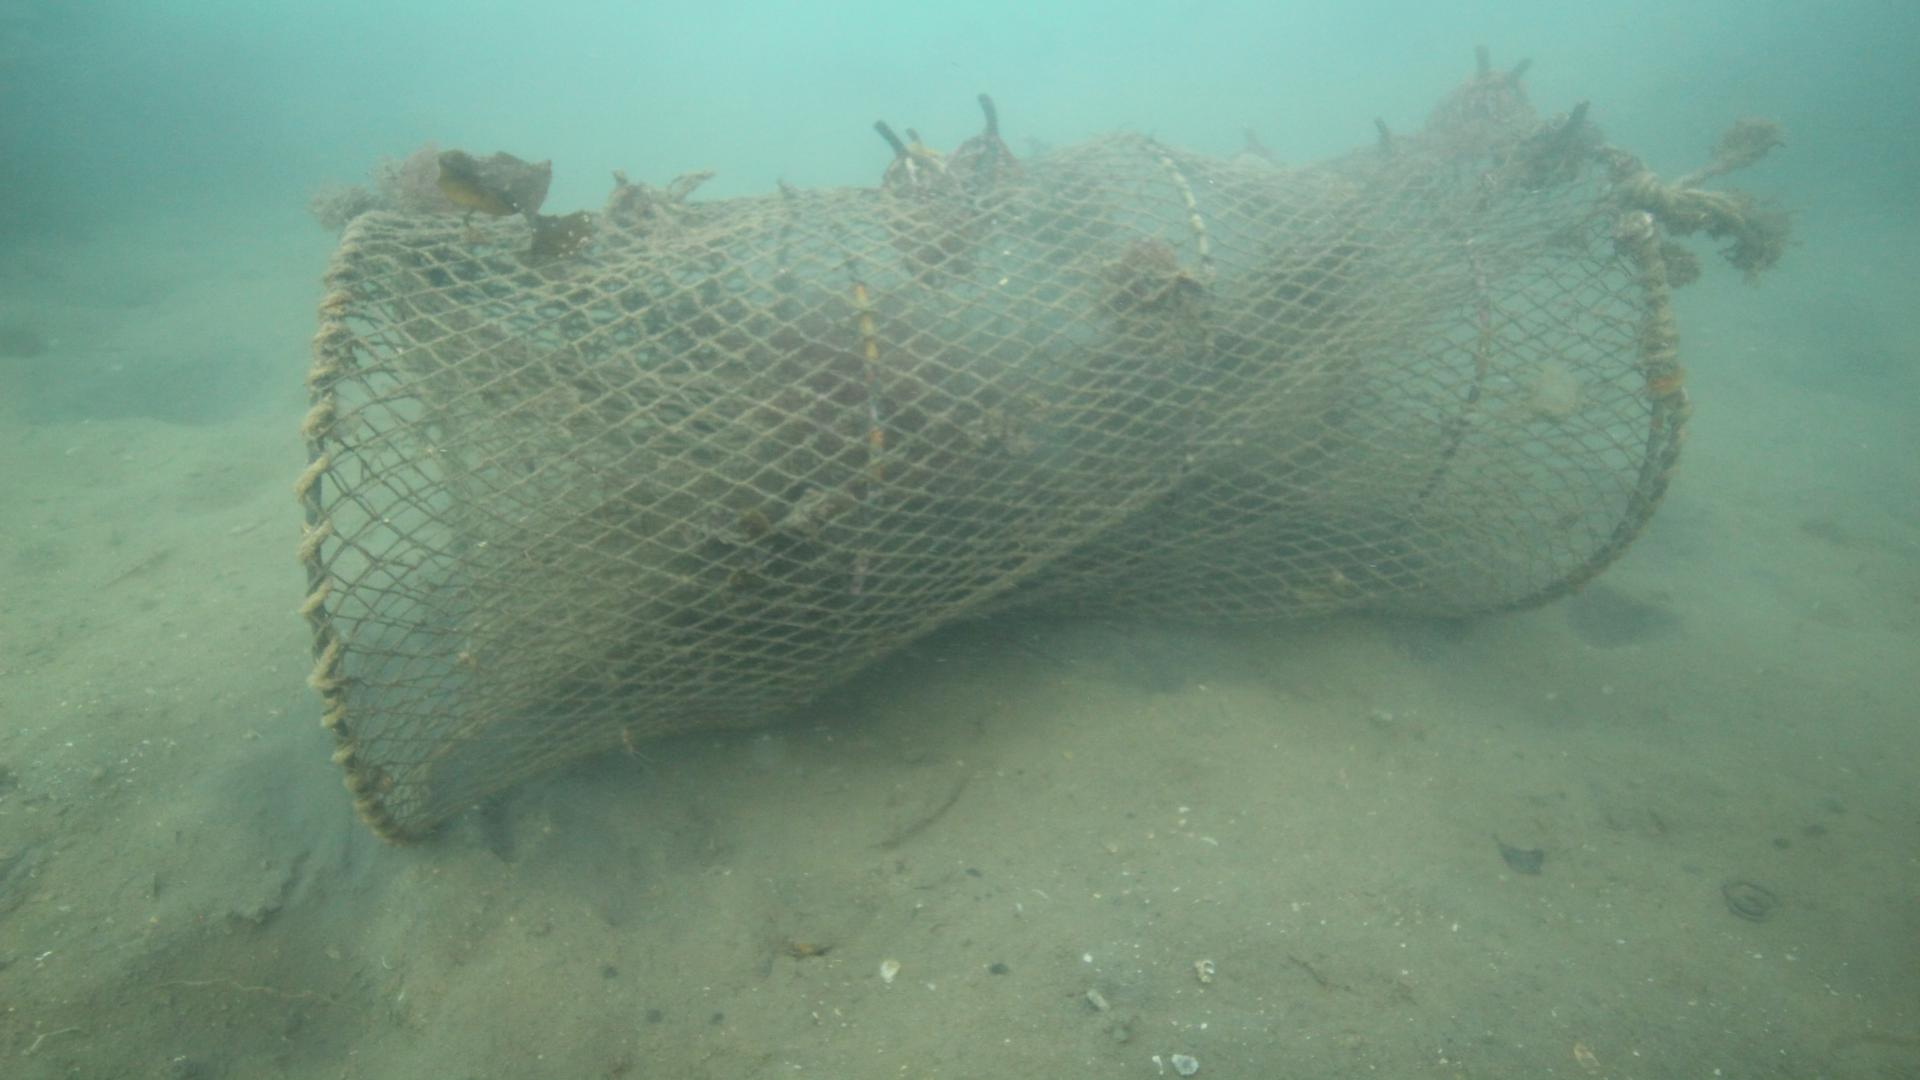spring fish trap: (291, 44, 1693, 847)
